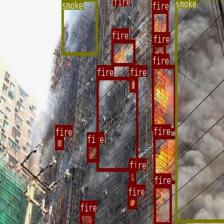fire: (96, 76, 138, 170), (152, 64, 176, 130), (152, 135, 176, 183), (153, 184, 171, 224), (111, 40, 135, 66), (152, 10, 168, 44), (152, 43, 165, 61), (86, 144, 99, 162), (79, 212, 94, 224), (55, 136, 63, 150), (127, 196, 136, 208), (130, 76, 136, 92), (129, 169, 135, 183), (113, 0, 125, 2)
smoke: (174, 0, 224, 222), (61, 0, 97, 55)
